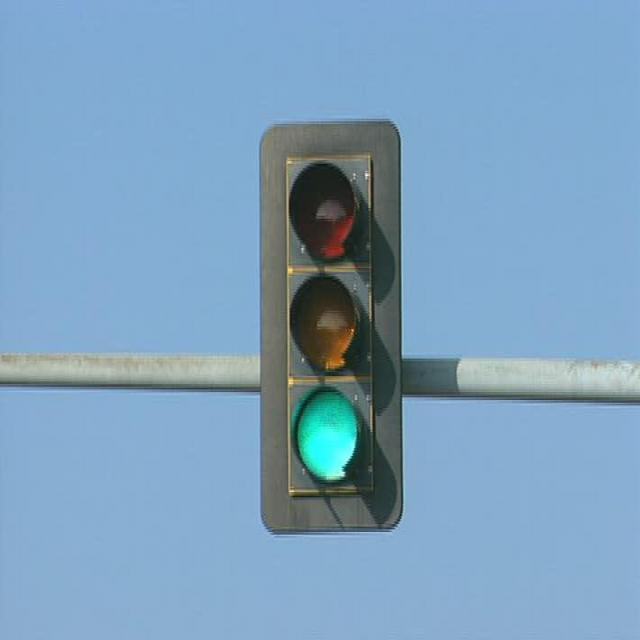green_light: (287, 161, 372, 488)
